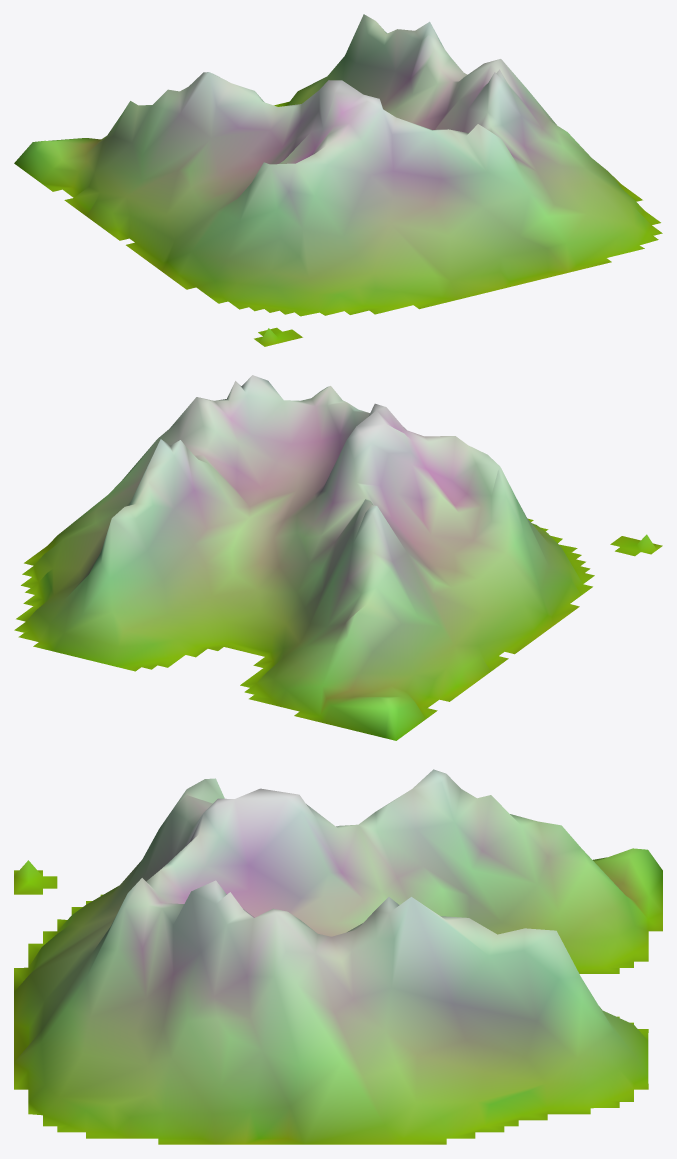
Rendered from mountain_d.glb.
The picture shows the model from 3 angles, top to bottom: view 1: azimuth 30°, elevation 25°; view 2: azimuth 150°, elevation 25°; view 3: azimuth 270°, elevation 25°; orthographic projection. The views are drawn at different scales.
Parts seen in each view (by area): view 1: mountain_d; view 2: mountain_d; view 3: mountain_d.
Part boxes in pixels (<box>): mountain_d: <box>14,14,662,346</box>; mountain_d: <box>14,375,662,740</box>; mountain_d: <box>14,769,662,1144</box>.
Size of the model in its own units: 1 by 0.321 by 1.
